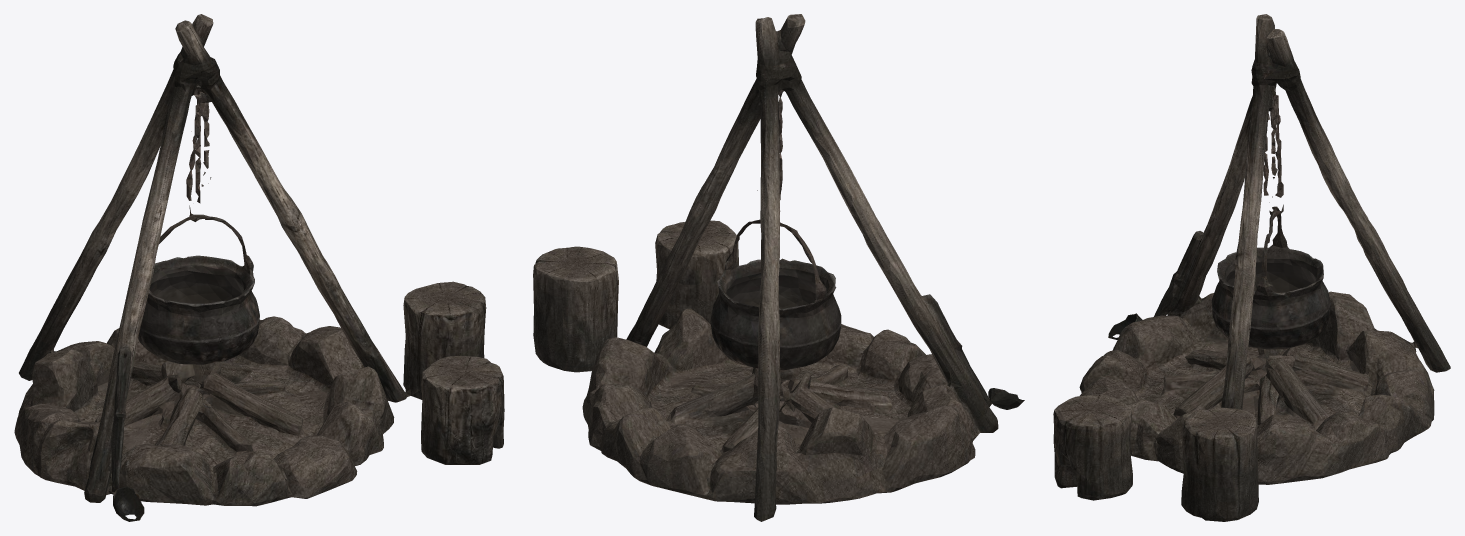
Rendered from cookfire.glb.
The picture shows the model from 3 angles, left to right: view 1: azimuth 30°, elevation 25°; view 2: azimuth 150°, elevation 25°; view 3: azimuth 270°, elevation 25°; orthographic projection. The views are drawn at different scales.
Parts seen in each view (by area): view 1: lo; view 2: lo; view 3: lo.
Part boxes in pixels (<box>): lo: <box>14,14,504,521</box>; lo: <box>533,14,1024,521</box>; lo: <box>1053,14,1450,521</box>.
Bounding box in the file's own units: 2 × 1.79 × 1.69.
1 material, 1 textured.
